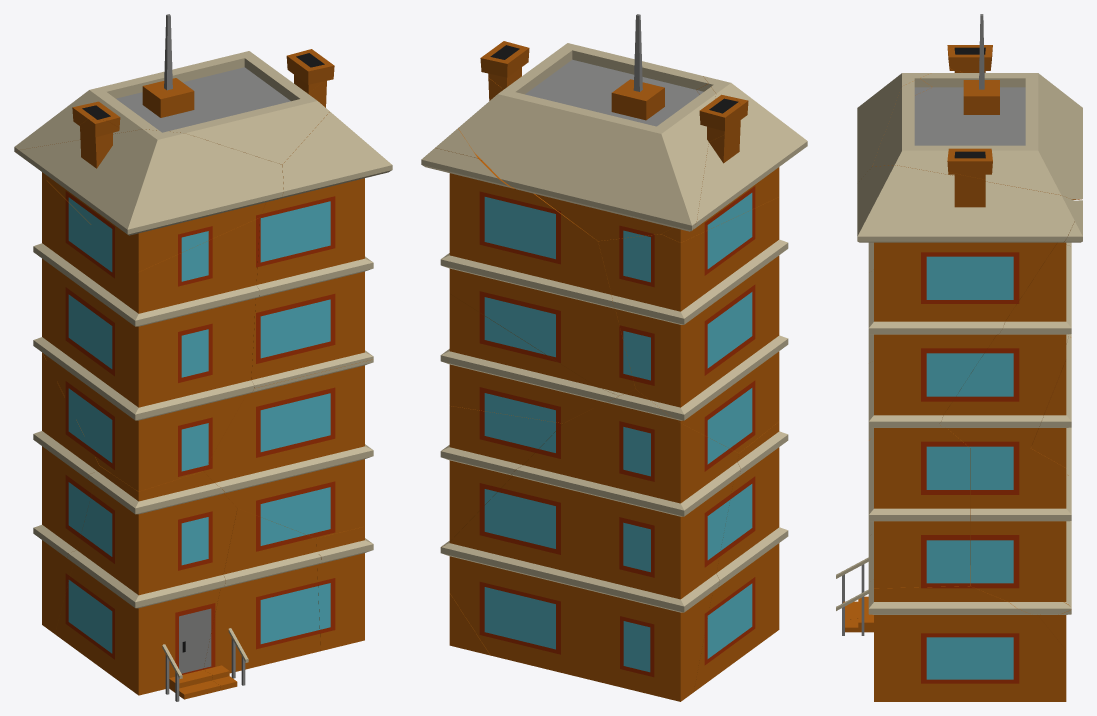
The model's file is House 4.3 Fractured.fbx.
3 renders of one model, left to right at view 1: azimuth 30°, elevation 25°; view 2: azimuth 150°, elevation 25°; view 3: azimuth 270°, elevation 25°, orthographic. The views are drawn at different scales.
Visible parts, largest first — view 1: House_03_Breaking_cell.002, House_03_Breaking_cell.009, House_03_Breaking_cell, House_03_Breaking_cell.003, House_03_Breaking_cell.008, House_03_Breaking_cell.007, House_03_Breaking_cell.006, House_03_Breaking_cell.011, House_03_Breaking_cell.001; view 2: House_03_Breaking_cell.011, House_03_Breaking_cell.007, House_03_Breaking_cell.002, House_03_Breaking_cell.010, House_03_Breaking_cell.009, House_03_Breaking_cell.004, House_03_Breaking_cell.003, House_03_Breaking_cell.005, House_03_Breaking_cell.001, House_03_Breaking_cell; view 3: House_03_Breaking_cell, House_03_Breaking_cell.007, House_03_Breaking_cell.001, House_03_Breaking_cell.008, House_03_Breaking_cell.005, House_03_Breaking_cell.010, House_03_Breaking_cell.003, House_03_Breaking_cell.004, House_03_Breaking_cell.011, House_03_Breaking_cell.006, House_03_Breaking_cell.009.
Part boxes in pixels (box(x1,y1,x2,y2)): House_03_Breaking_cell.002: box(33, 176, 260, 491); House_03_Breaking_cell.009: box(55, 465, 237, 701); House_03_Breaking_cell: box(251, 77, 392, 388); House_03_Breaking_cell.003: box(16, 119, 283, 271); House_03_Breaking_cell.008: box(203, 359, 373, 538); House_03_Breaking_cell.007: box(14, 14, 334, 164); House_03_Breaking_cell.006: box(203, 508, 321, 690); House_03_Breaking_cell.011: box(33, 352, 99, 633); House_03_Breaking_cell.001: box(316, 526, 373, 650); House_03_Breaking_cell.011: box(440, 389, 740, 701); House_03_Breaking_cell.007: box(458, 14, 741, 240); House_03_Breaking_cell.002: box(598, 197, 788, 452); House_03_Breaking_cell.010: box(421, 148, 635, 395); House_03_Breaking_cell.009: box(694, 422, 788, 691); House_03_Breaking_cell.004: box(440, 294, 618, 423); House_03_Breaking_cell.003: box(661, 76, 807, 242); House_03_Breaking_cell.005: box(440, 406, 563, 547); House_03_Breaking_cell.001: box(449, 593, 490, 655); House_03_Breaking_cell: box(435, 75, 521, 160); House_03_Breaking_cell: box(857, 165, 1074, 424); House_03_Breaking_cell.007: box(872, 14, 1082, 199); House_03_Breaking_cell.001: box(868, 565, 1066, 701); House_03_Breaking_cell.008: box(868, 424, 969, 588); House_03_Breaking_cell.005: box(970, 448, 1071, 614); House_03_Breaking_cell.010: box(939, 200, 1082, 448); House_03_Breaking_cell.003: box(857, 45, 962, 183); House_03_Breaking_cell.004: box(1031, 336, 1071, 467); House_03_Breaking_cell.011: box(970, 334, 1071, 649); House_03_Breaking_cell.006: box(836, 533, 873, 635); House_03_Breaking_cell.009: box(836, 427, 873, 619).
Bounding box in the file's own units: 393 × 880 × 319.
